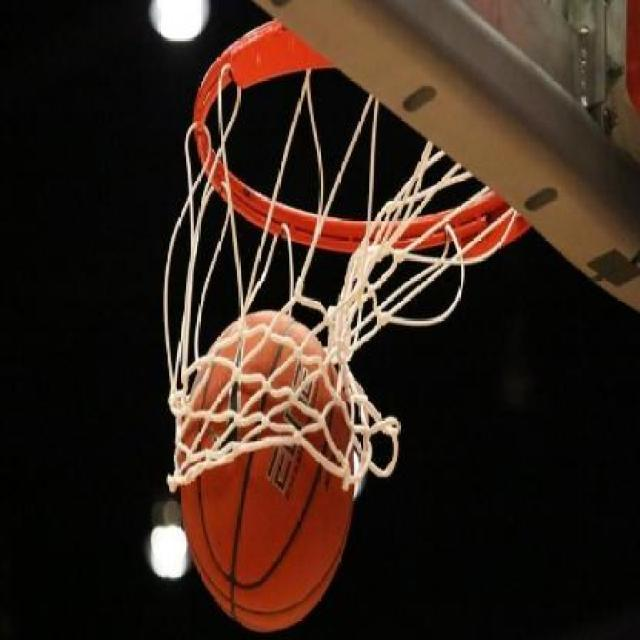basketball: (178, 310, 356, 630)
